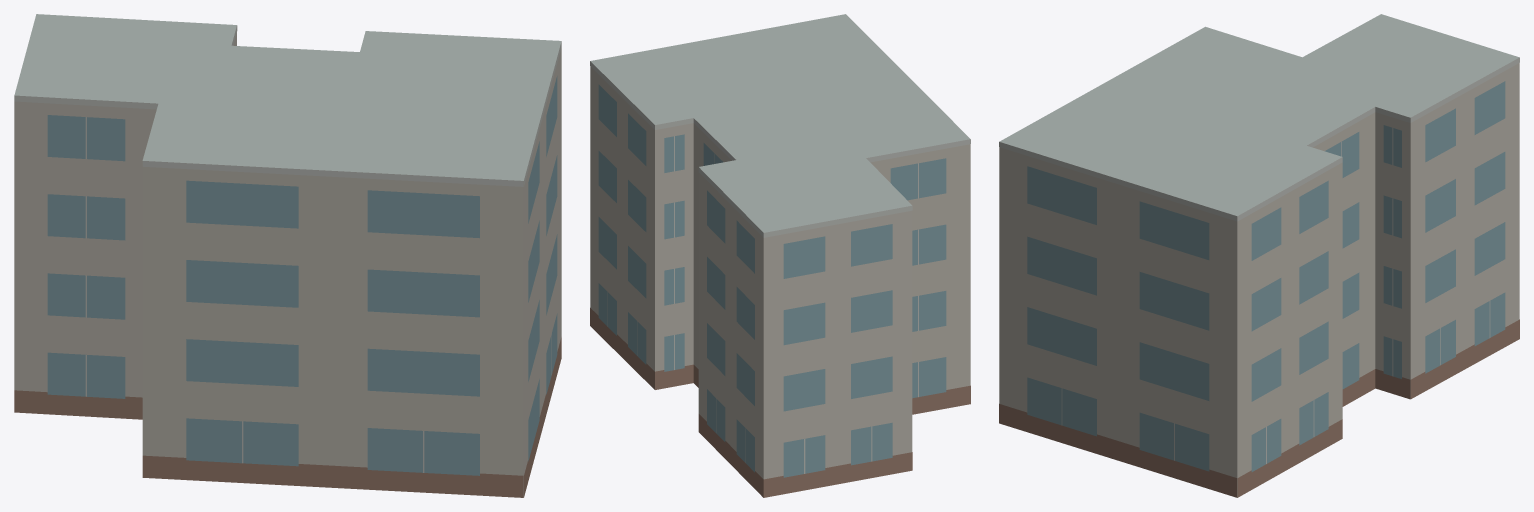
File: survey-upis-32954775.glb
The picture shows the model from 3 angles, left to right: view 1: azimuth 30°, elevation 25°; view 2: azimuth 150°, elevation 25°; view 3: azimuth 270°, elevation 25°; orthographic projection. The views are drawn at different scales.
Visible parts, largest first — view 1: survey-upis-32954775.tmp; view 2: survey-upis-32954775.tmp; view 3: survey-upis-32954775.tmp.
Part boxes in pixels (bbox=[...]): survey-upis-32954775.tmp: bbox=[14, 14, 561, 497]; survey-upis-32954775.tmp: bbox=[590, 14, 970, 497]; survey-upis-32954775.tmp: bbox=[999, 14, 1519, 497].
Bounding box in the file's own units: 19.88 × 12.9 × 21.62.
